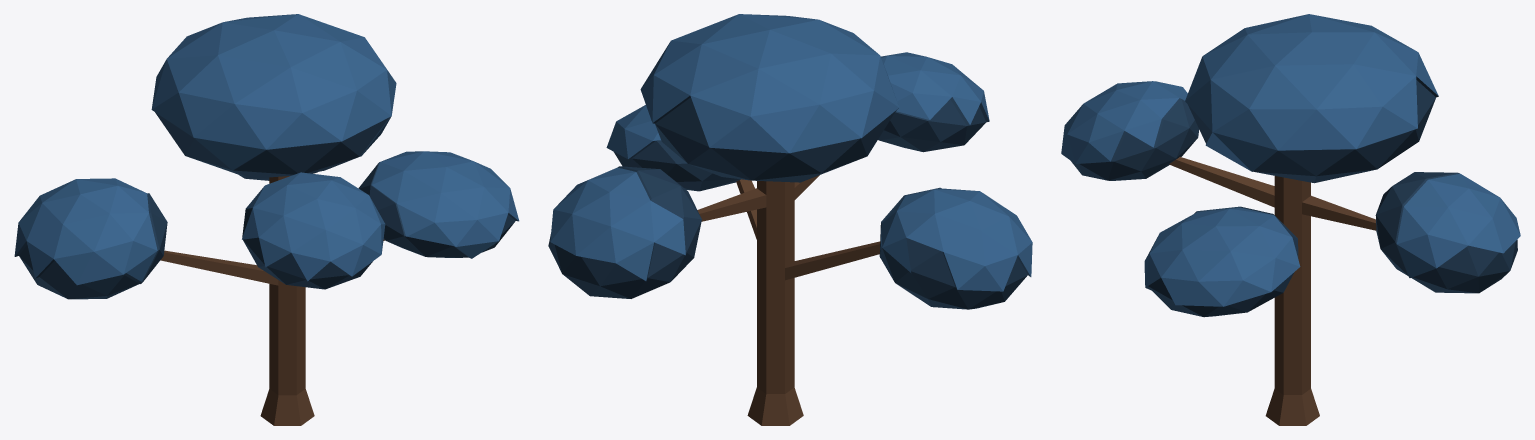
The model's file is testtree (1).fbx.
3 renders of one model, left to right at view 1: azimuth 30°, elevation 25°; view 2: azimuth 150°, elevation 25°; view 3: azimuth 270°, elevation 25°, orthographic. The views are drawn at different scales.
Parts seen in each view (by area): view 1: Default Tree.009; view 2: Default Tree.009; view 3: Default Tree.009.
Part boxes in pixels (x1,y1,x2,y2): Default Tree.009: [14, 14, 519, 425]; Default Tree.009: [548, 14, 1032, 425]; Default Tree.009: [1061, 14, 1520, 425].
Bounding box in the file's own units: 1107 × 921 × 1005.
